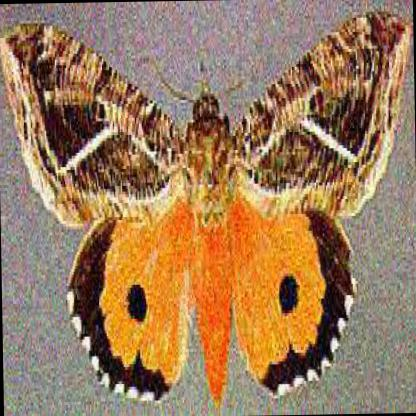fruit sucking moth: (0, 11, 410, 409)
